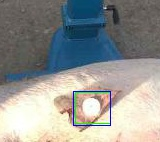text: (75, 92, 110, 123)
